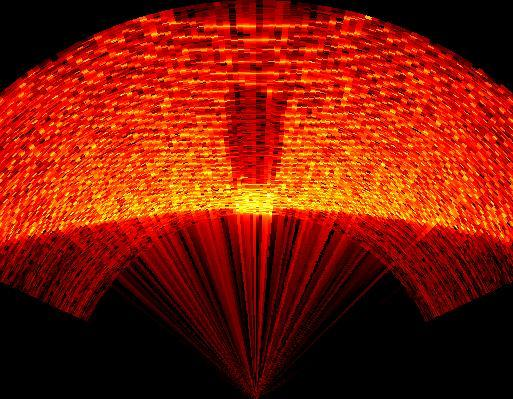box_crate: (216, 78, 292, 218)
